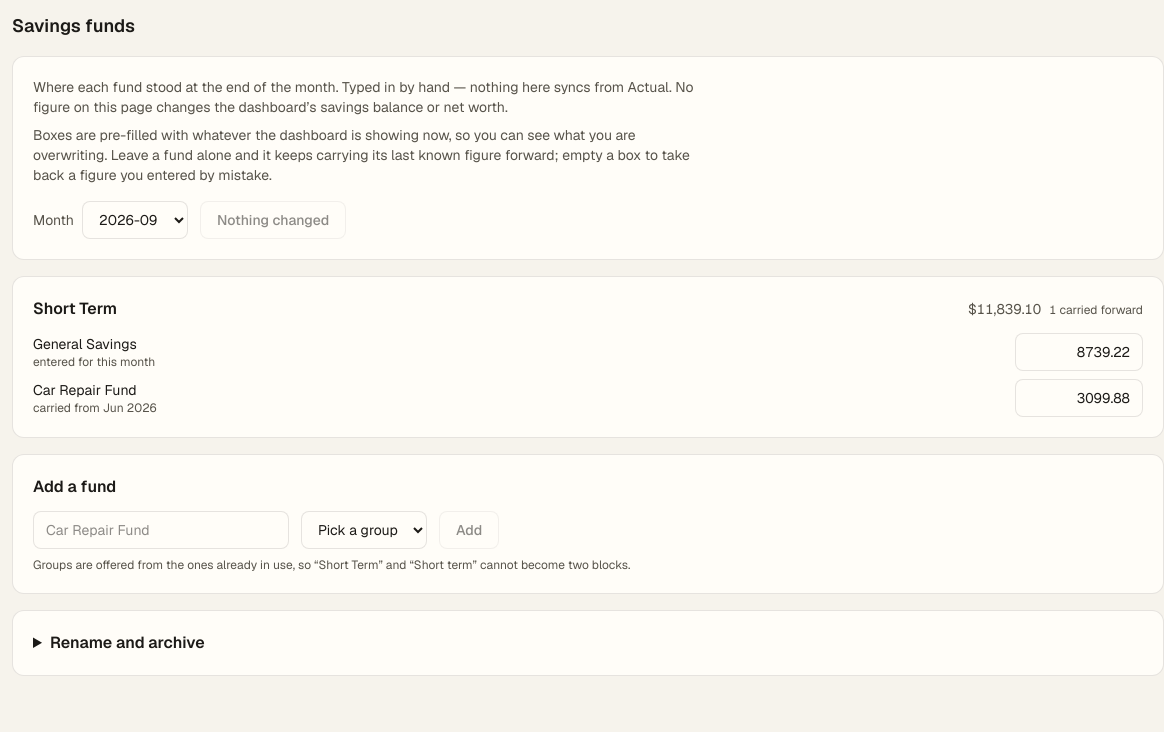
Test: adding a fund says so, and the reload that follows does not wipe it
The image size is (1164, 732).
In the field with placeholder "Car Repair Fund": coordinates (161, 530) [33,511,289,549], type "Tax Fund"
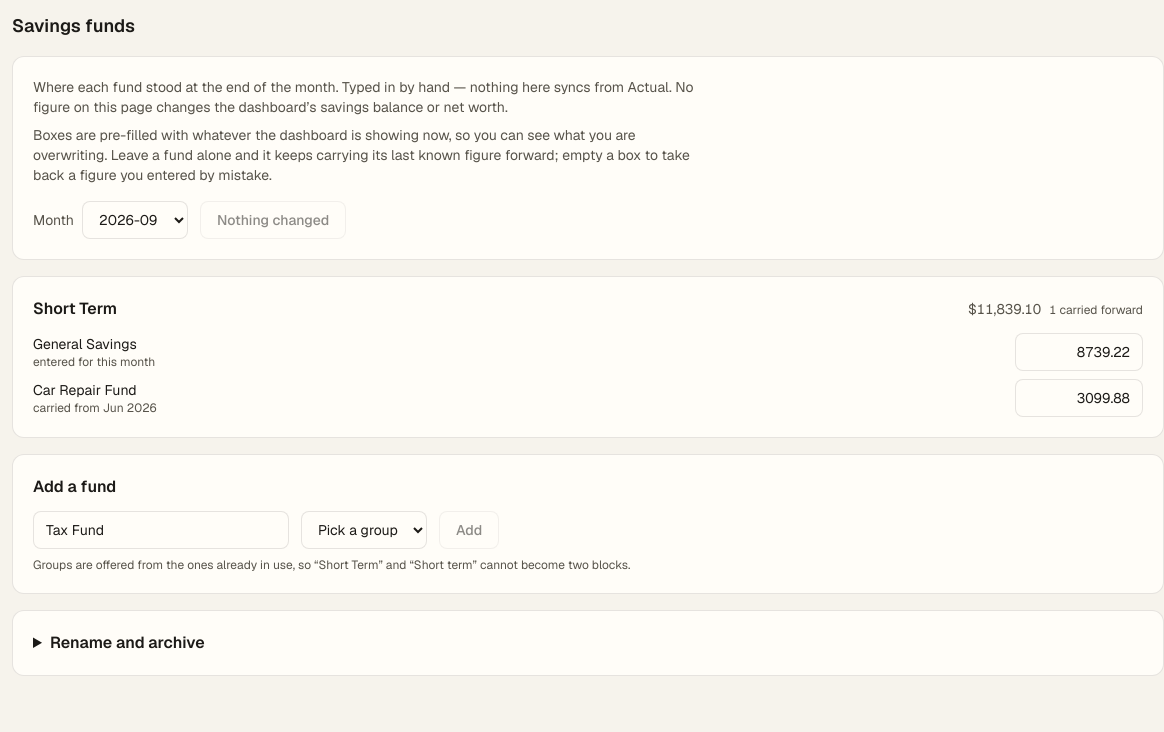
Select "Short Term" in the dropdown named "Group for new fund": coordinates (364, 530) [301,511,427,549]
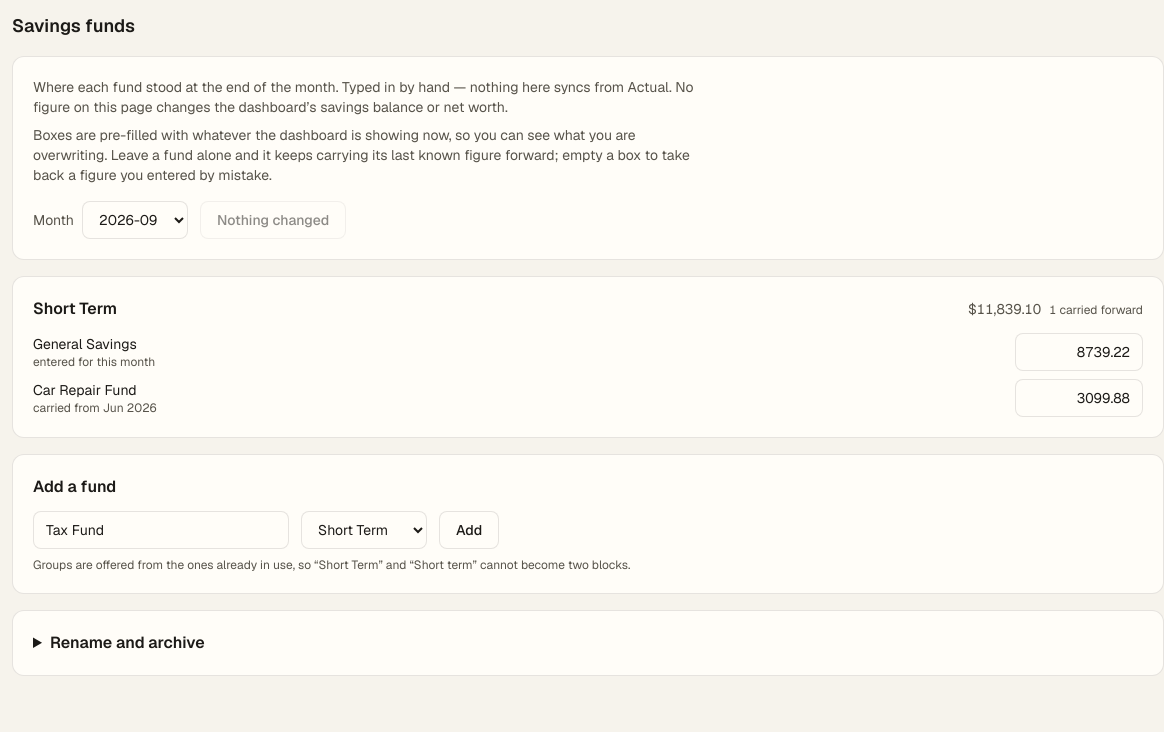
Click the button "Add": coordinates (469, 530) [439,511,499,549]
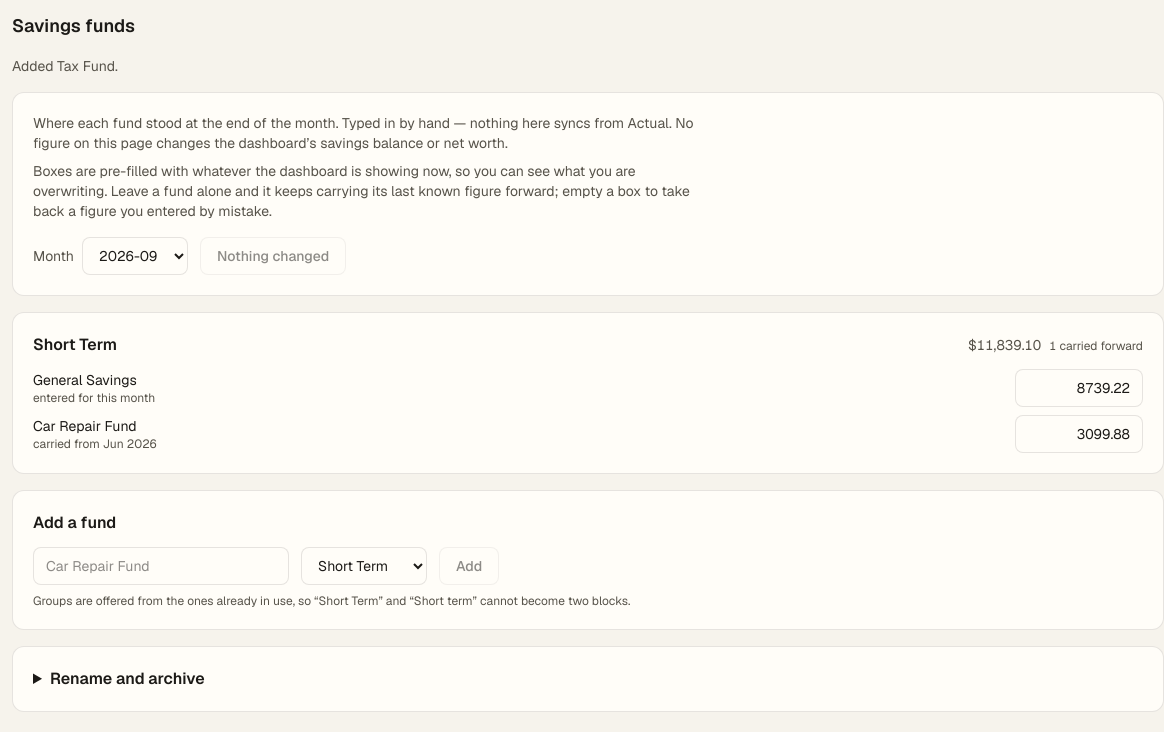
Expected: the text "Added Tax Fund." is shown, [12,57,118,75]
